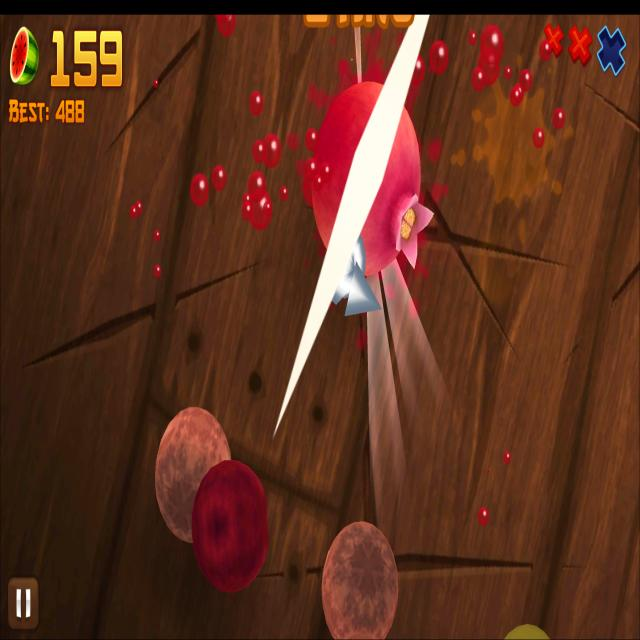fruit: (313, 80, 421, 274), (155, 406, 231, 544), (193, 460, 269, 590), (322, 522, 399, 640), (503, 623, 551, 640)
